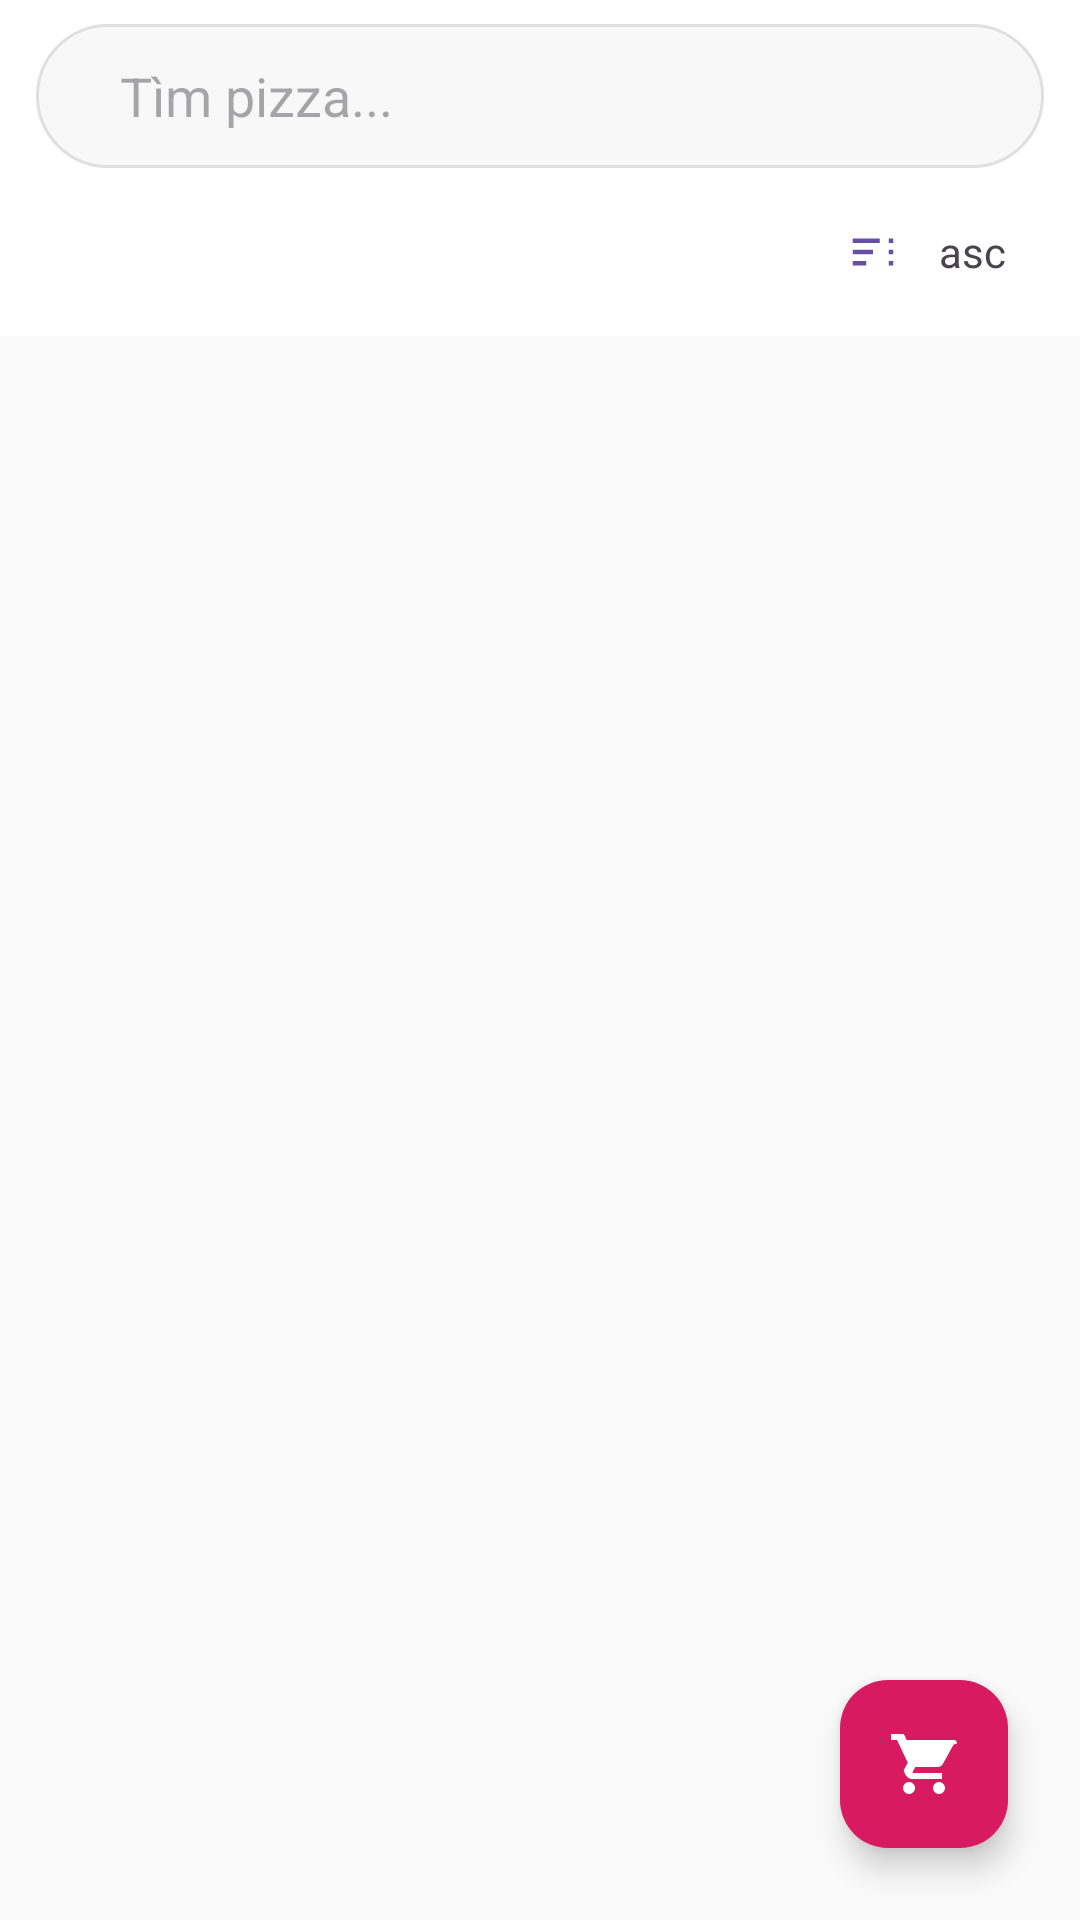

Screen size 1080px x 1920px. Icon name, then its box in pixels as (x1, y1, x2, y2):
Giỏ hàng: (840, 1680, 1008, 1848)
sort asc: (852, 238, 894, 266)
